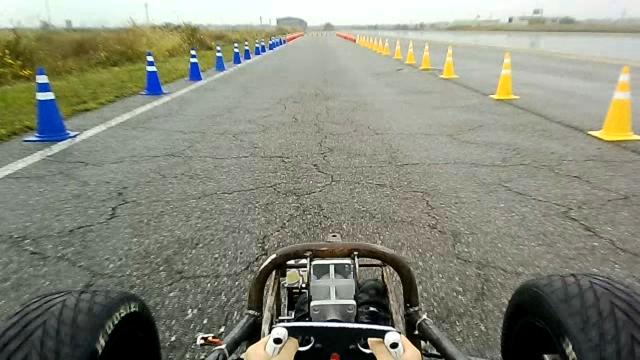blue cone: (22, 65, 80, 142), (138, 50, 169, 96), (185, 47, 203, 81), (214, 44, 227, 72), (232, 41, 242, 64), (243, 40, 252, 60), (259, 38, 267, 54), (253, 39, 261, 55), (268, 40, 273, 51)
yellow cone: (587, 64, 639, 142), (489, 51, 520, 100), (440, 44, 460, 79), (418, 42, 434, 70), (404, 39, 416, 65), (392, 39, 402, 59), (381, 38, 391, 56), (376, 37, 384, 54), (371, 37, 378, 52), (359, 34, 366, 47)
